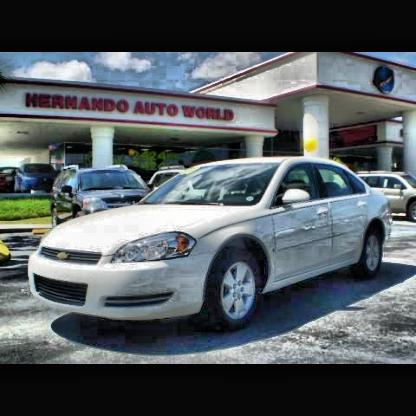Chevrolet Impala Sedan 2007: (30, 155, 395, 331)
